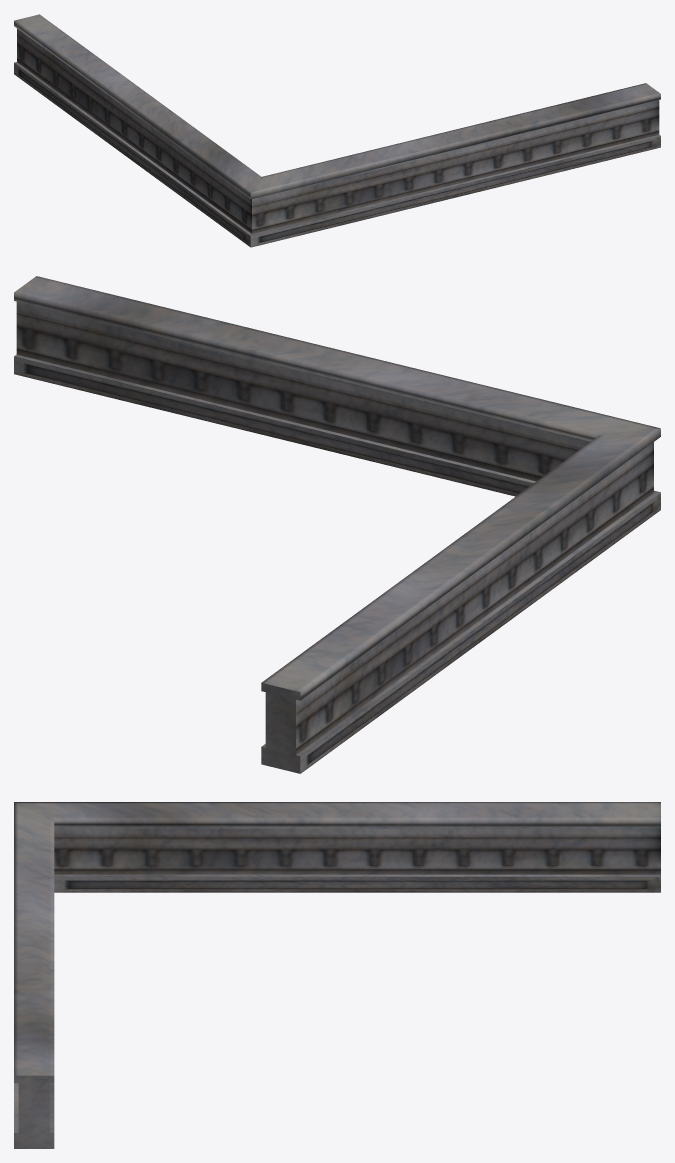
File: railing_corner_01.glb
3 views of the same model, one above another, from view 1: azimuth 30°, elevation 25°; view 2: azimuth 150°, elevation 25°; view 3: azimuth 270°, elevation 25° (orthographic). The views are drawn at different scales.
Parts seen in each view (by area): view 1: railing_corner_01; view 2: railing_corner_01; view 3: railing_corner_01.
Part boxes in pixels (x1,y1,x2,y2): railing_corner_01: [14, 14, 660, 247]; railing_corner_01: [14, 276, 660, 773]; railing_corner_01: [14, 802, 660, 1148].
Size of the model in its own units: 8 by 1 by 8.
1 material, 1 textured.
